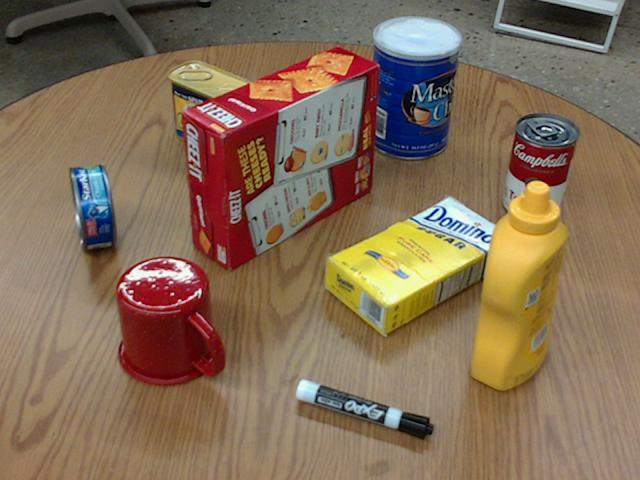cracker_box: (182, 45, 376, 269)
gelatin_box: (256, 63, 339, 119)
large_marker: (296, 379, 433, 438)
master_chef_can: (367, 16, 460, 158)
mug: (116, 256, 222, 385)
mustard_bottle: (472, 181, 567, 389)
potted_meat_can: (168, 60, 251, 154)
sugar_box: (324, 198, 512, 332)
tomato_soup_can: (504, 113, 579, 221)
tuna_fish_can: (69, 165, 117, 250)
